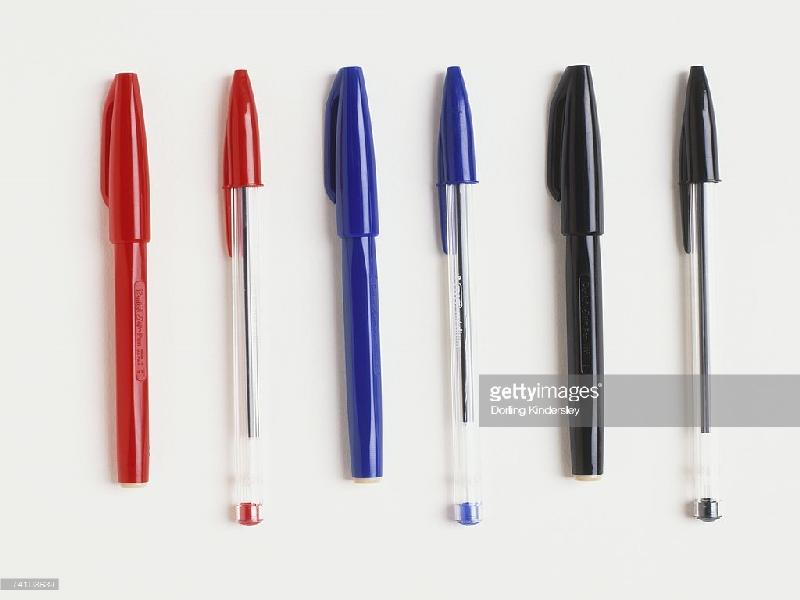pen: (537, 63, 629, 485), (314, 60, 402, 490), (428, 62, 504, 533), (664, 62, 740, 525), (210, 61, 279, 530), (91, 67, 167, 492)
